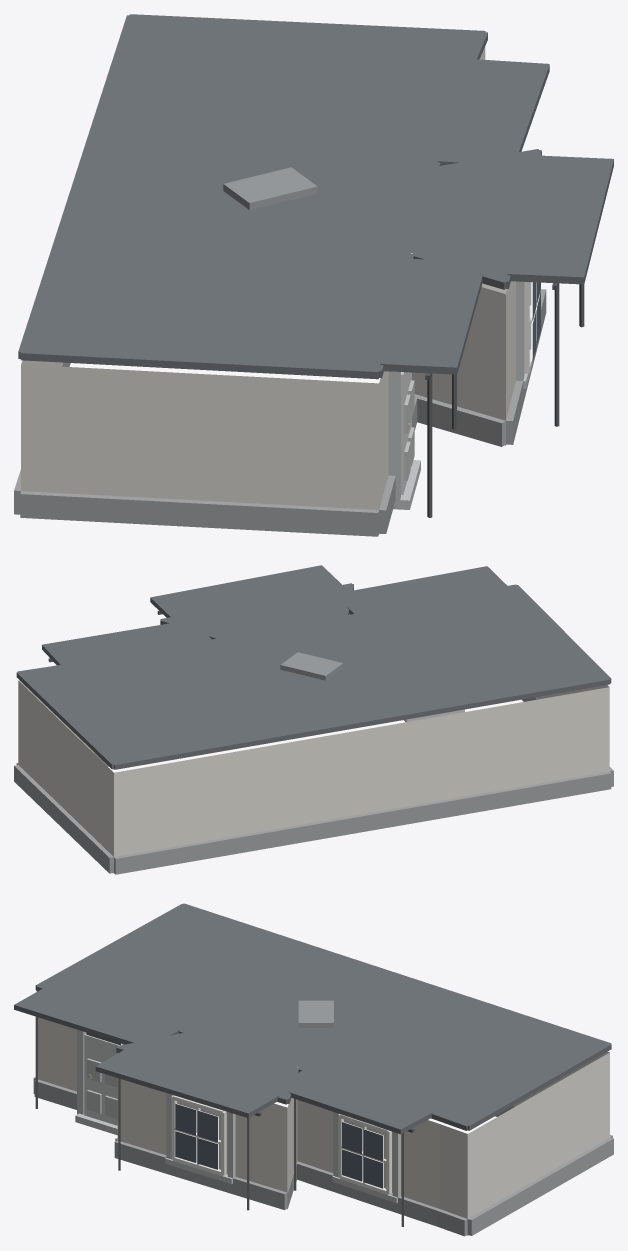
The picture shows the model from 3 angles, top to bottom: view 1: azimuth 30°, elevation 25°; view 2: azimuth 150°, elevation 25°; view 3: azimuth 270°, elevation 25°; orthographic projection. The views are drawn at different scales.
Parts seen in each view (by area): view 1: slate_dk, harl_grey, plinth, stone_band, lead, pipe, door_cad_p, frame, door_cad; view 2: slate_dk, harl_grey, plinth, lead; view 3: slate_dk, harl_grey, plinth, stone_band, frame, door_cad, pipe, lead, door_cad_p, window_glass_002, window_glass_001, window_glass_003 (+5 smaller).
Part boxes in pixels (x1,y1,x2,y2): slate_dk: (18, 14, 613, 379); harl_grey: (21, 46, 515, 534); plinth: (14, 289, 546, 536); stone_band: (388, 281, 536, 509); lead: (223, 167, 317, 210); pipe: (425, 283, 584, 517); door_cad_p: (404, 380, 414, 480); frame: (524, 282, 536, 373); door_cad: (401, 372, 411, 494); slate_dk: (16, 565, 611, 769); harl_grey: (18, 614, 609, 873); plinth: (14, 697, 613, 874); lead: (280, 652, 343, 680); slate_dk: (14, 903, 611, 1134); harl_grey: (38, 1017, 609, 1235); plinth: (33, 1077, 613, 1236); stone_band: (75, 1029, 400, 1203); frame: (171, 1095, 391, 1194); door_cad: (84, 1034, 123, 1125); pipe: (35, 1016, 414, 1226); lead: (298, 1000, 333, 1027); door_cad_p: (87, 1058, 117, 1119); window_glass_002: (197, 1110, 218, 1142); window_glass_001: (197, 1138, 218, 1169); window_glass_003: (175, 1131, 196, 1162).
Size of the model in its own units: 12.24 by 3.09 by 13.63.
